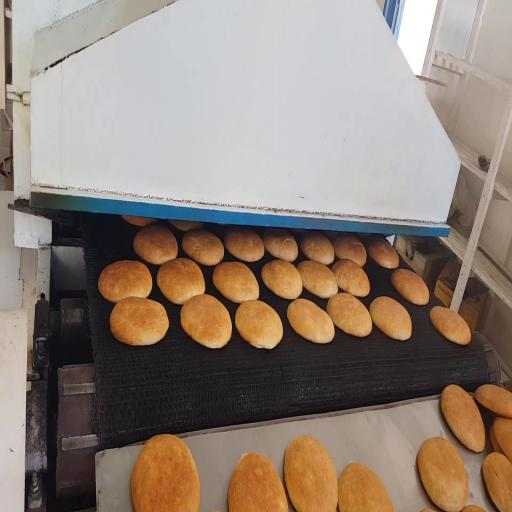bread: (131, 435, 199, 511), (284, 436, 338, 511), (418, 438, 468, 511), (228, 454, 288, 511), (440, 385, 485, 452), (110, 297, 169, 345), (181, 295, 231, 348), (339, 463, 393, 511), (235, 301, 283, 348), (98, 261, 152, 302), (157, 258, 205, 304), (287, 299, 334, 343), (327, 293, 372, 337), (213, 262, 259, 303), (370, 296, 411, 340), (134, 225, 178, 265), (483, 452, 511, 511), (262, 260, 302, 300), (297, 260, 338, 299), (430, 306, 471, 345), (182, 230, 223, 265), (332, 259, 369, 297), (391, 269, 429, 305), (225, 227, 264, 262), (475, 384, 511, 418), (263, 228, 298, 261), (300, 232, 334, 265), (333, 234, 366, 266), (367, 238, 399, 268), (493, 417, 511, 460), (122, 216, 157, 227), (169, 220, 203, 231), (490, 425, 502, 453), (462, 505, 485, 511), (421, 509, 433, 511)
